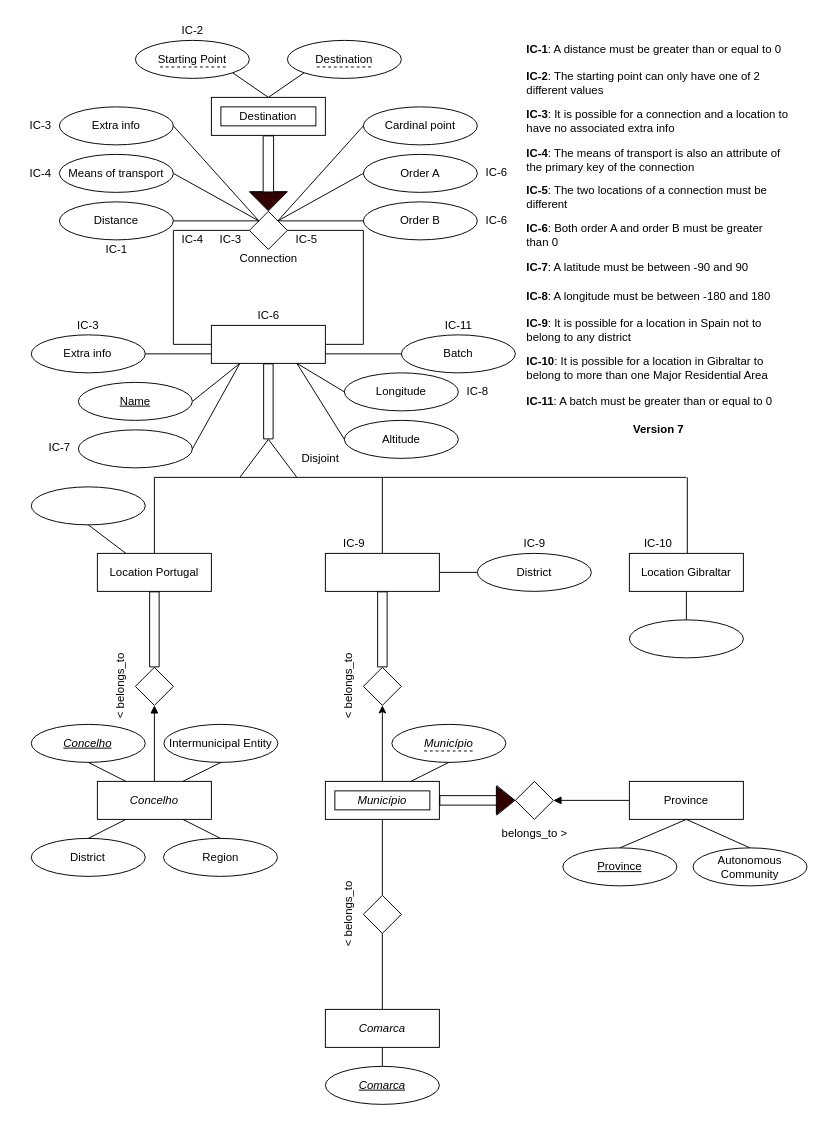
This 824x1121 diagram has some shape labels left out. The box of each missing label's shape, as (x1, y1, x2, y2) in pixels:
Latitude: (77, 429, 192, 468)
Location: (210, 324, 325, 363)
Location Spain: (324, 552, 439, 591)
Major Residential Area: (628, 619, 743, 658)
Parish: (30, 486, 145, 525)
